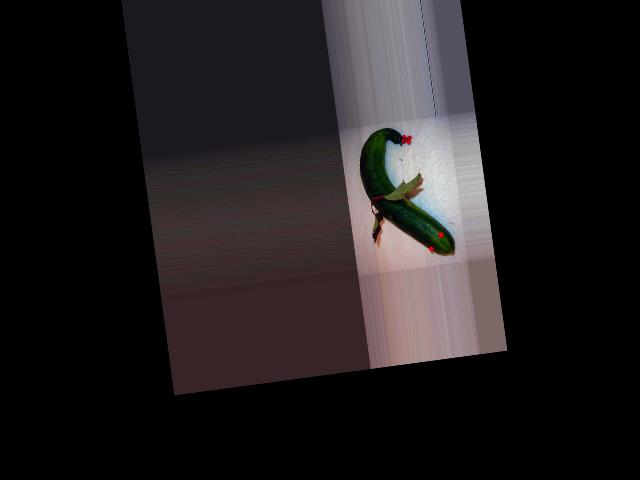cucumber: (354, 120, 455, 264)
